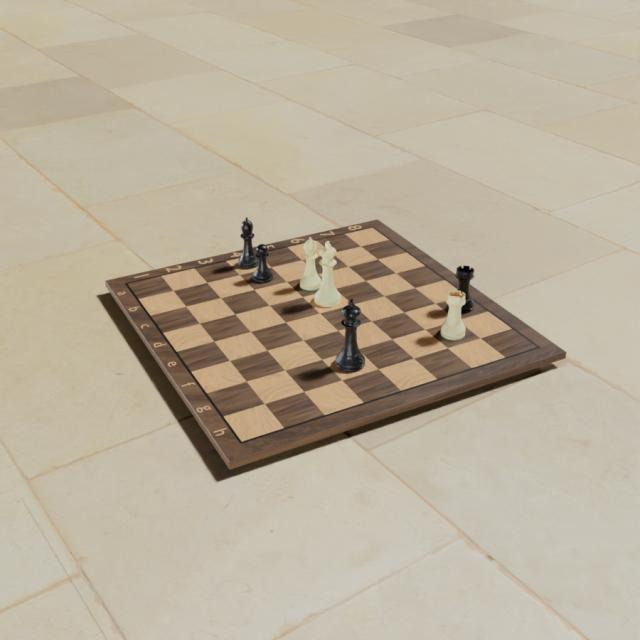black-bishop: (236, 215, 259, 270)
black-king: (332, 297, 366, 372)
black-pawn: (251, 243, 275, 285)
black-rook: (448, 262, 476, 314)
white-bishop: (296, 232, 321, 291)
white-king: (310, 241, 342, 310)
white-rook: (438, 289, 466, 343)
